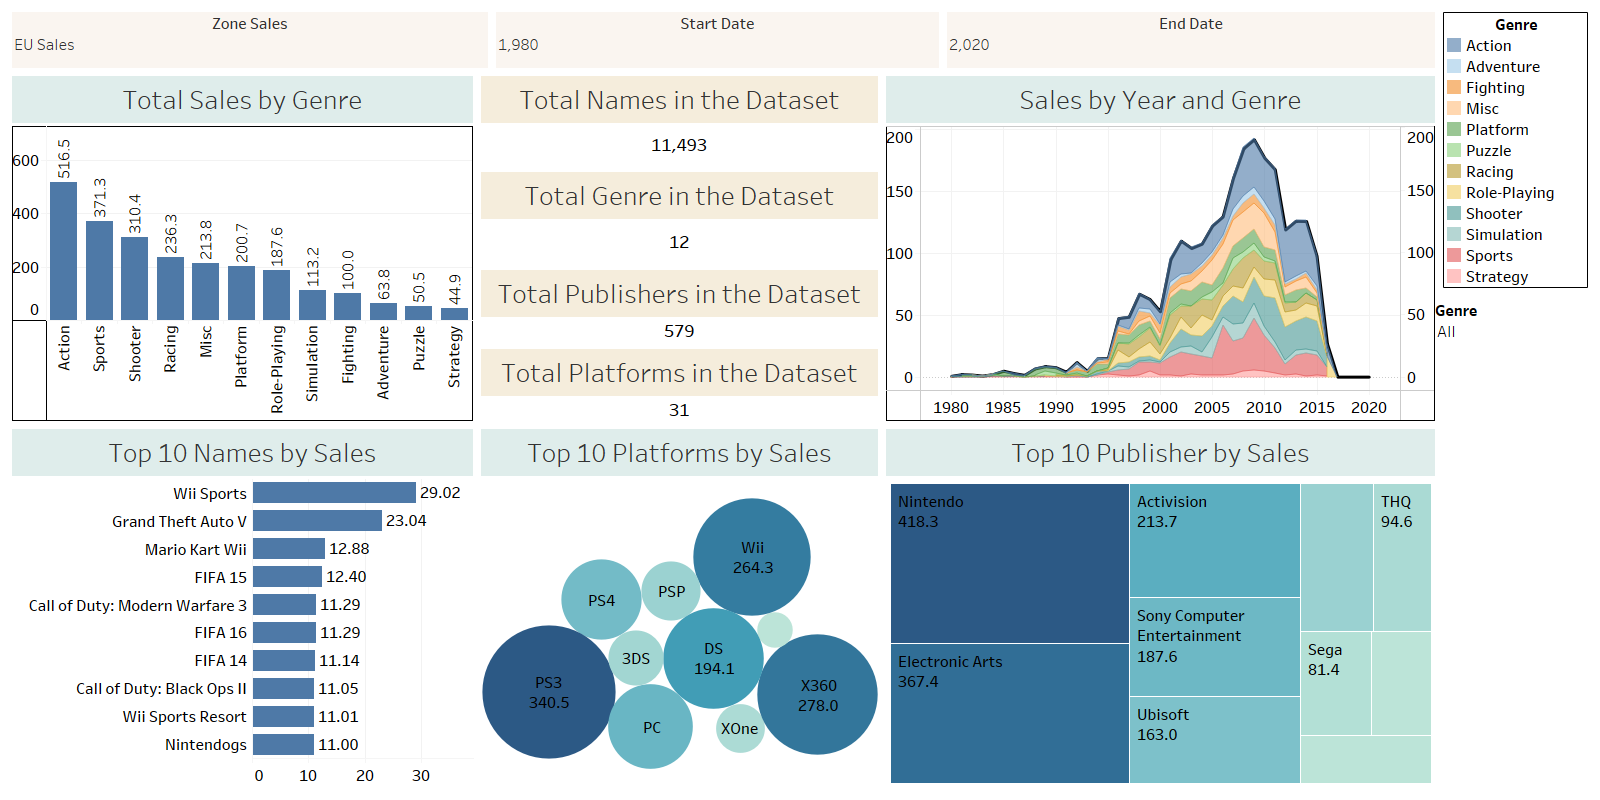

The dashboard page shown, as its layout file describes it:
{"tool":"tableau","page":{"name":"Dashboard 1","canvas":[1600,800],"ordinal":0},"visuals":[{"type":"parameter","param":"[Parameters].[Parameter 1]","box":[8,8,484.4,64]},{"type":"parameter","param":"[Parameters].[Parameter 2]","box":[492.4,8,450.7,64]},{"type":"parameter","param":"[Parameters].[Parameter 3]","box":[943,8,496,64]},{"type":"legend","title":"Sales by Year and Genre","param":"[federated.0af8cgk03mlubj120hjot0cq6628].[none:Genre:nk]","box":[1439,8,153,284]},{"type":"worksheet","title":"Total Sales by Genre","mark":"Automatic","rows":["Calculation_963488856470245376"],"cols":["Genre"],"box":[8,72,469,353]},{"type":"worksheet","title":"Total Names in the Dataset","mark":"Automatic","box":[477,72,405,96]},{"type":"worksheet","title":"Sales by Year and Genre","mark":"Automatic","rows":["Calculation_963488856470245376","Calculation_963488856470245376"],"cols":["Year"],"box":[882,72,557,353]},{"type":"worksheet","title":"Total Genre in the Dataset","mark":"Automatic","box":[477,168,405,98]},{"type":"worksheet","title":"Total Publishers in the Dataset ","mark":"Automatic","box":[477,266,405,79]},{"type":"filter","title":"Sales by Year and Genre","param":"[federated.0af8cgk03mlubj120hjot0cq6628].[none:Genre:nk]","box":[1435,299,152,49]},{"type":"worksheet","title":"Total Platforms in the Dataset ","mark":"Automatic","box":[477,345,405,80]},{"type":"worksheet","title":"Top 10 Names by Sales","mark":"Automatic","rows":["Name"],"cols":["Calculation_963488856470245376"],"box":[8,425,469,367]},{"type":"worksheet","title":"Top 10 Platforms by Sales ","mark":"Circle","box":[477,425,405,367]},{"type":"worksheet","title":"Top 10 Publisher by Sales","mark":"Automatic","box":[882,425,557,367]}]}

Visuals, with their boxes in screenshot pixels (x1, y1, x2, y2), scaled from the page's 1600x800 canvas onto the 1600x800 screenshot:
parameter: box(8, 8, 492, 72)
parameter: box(492, 8, 943, 72)
parameter: box(943, 8, 1439, 72)
"Sales by Year and Genre" legend: box(1439, 8, 1592, 292)
"Total Sales by Genre" worksheet: box(8, 72, 477, 425)
"Total Names in the Dataset" worksheet: box(477, 72, 882, 168)
"Sales by Year and Genre" worksheet: box(882, 72, 1439, 425)
"Total Genre in the Dataset" worksheet: box(477, 168, 882, 266)
"Total Publishers in the Dataset " worksheet: box(477, 266, 882, 345)
"Sales by Year and Genre" filter: box(1435, 299, 1587, 348)
"Total Platforms in the Dataset " worksheet: box(477, 345, 882, 425)
"Top 10 Names by Sales" worksheet: box(8, 425, 477, 792)
"Top 10 Platforms by Sales " worksheet (Circle marks): box(477, 425, 882, 792)
"Top 10 Publisher by Sales" worksheet: box(882, 425, 1439, 792)
